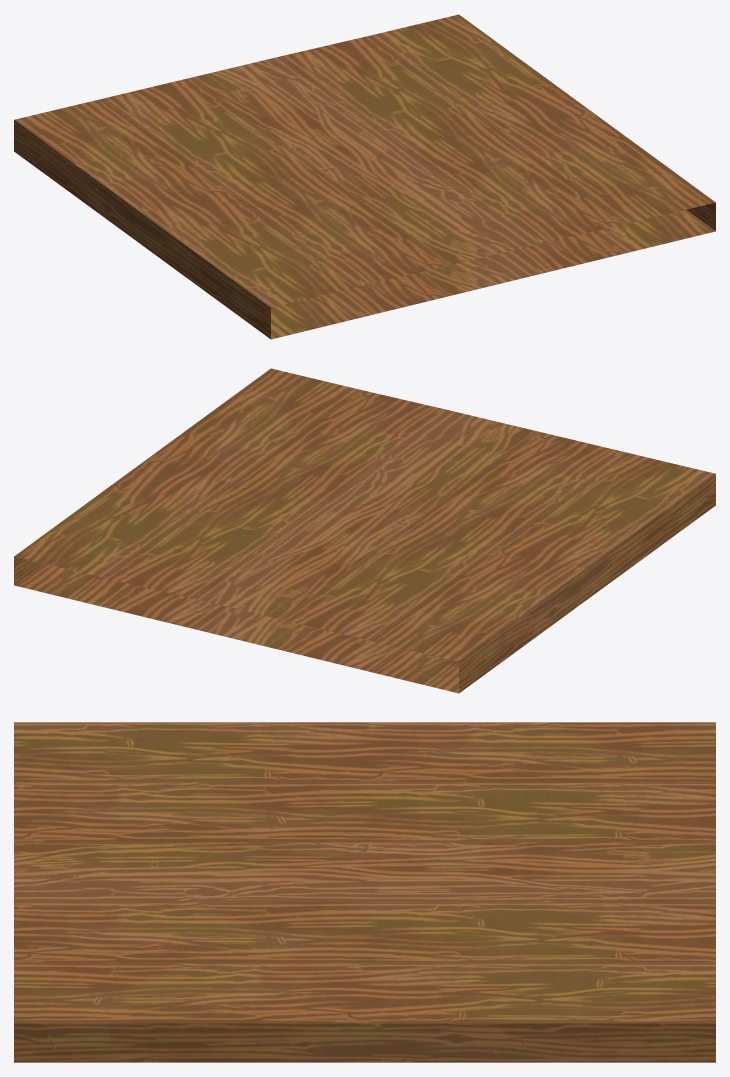
Rendered from Roof_Wooden_2x1_Middle.glb.
3 renders of one model, top to bottom at view 1: azimuth 30°, elevation 25°; view 2: azimuth 150°, elevation 25°; view 3: azimuth 270°, elevation 25°, orthographic. The views are drawn at different scales.
Parts seen in each view (by area): view 1: Roof_Wooden_2x1_Middle; view 2: Roof_Wooden_2x1_Middle; view 3: Roof_Wooden_2x1_Middle.
Part boxes in pixels (x1=…): Roof_Wooden_2x1_Middle: x1=14, y1=14, x2=715, y2=339; Roof_Wooden_2x1_Middle: x1=14, y1=368, x2=715, y2=693; Roof_Wooden_2x1_Middle: x1=14, y1=722, x2=715, y2=1062.
Size of the model in its own units: 2 by 0.1379 by 2.
1 material, 1 textured.
